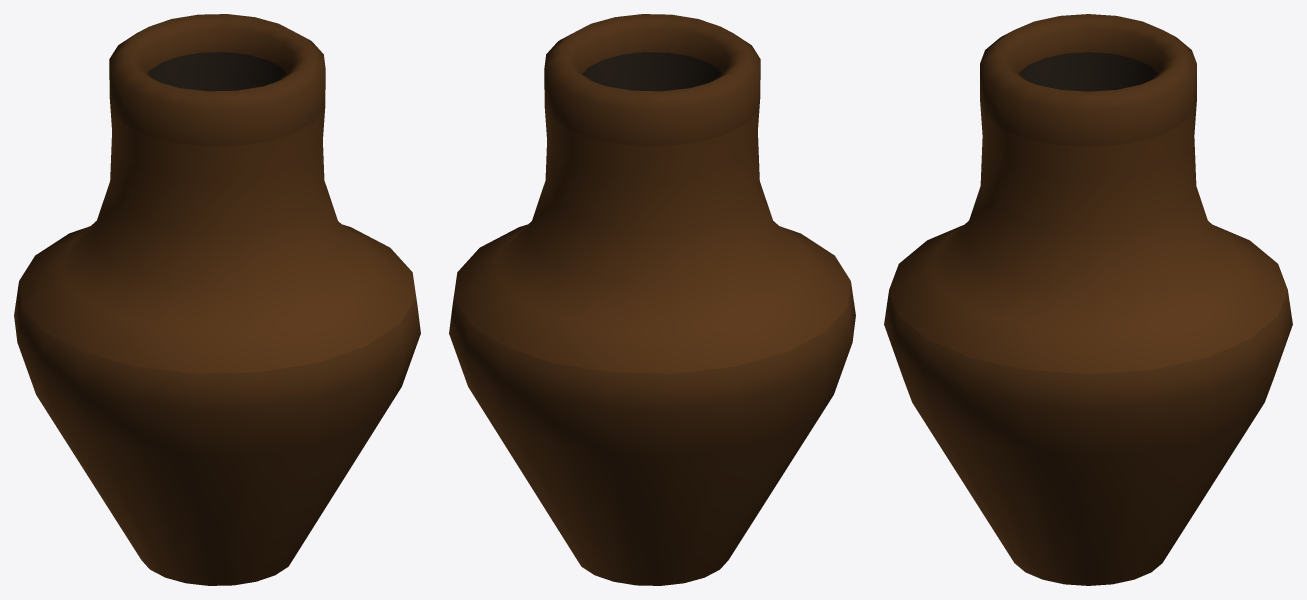
File: mk_vase_4.glb
3 views of the same model, side by side, from view 1: azimuth 30°, elevation 25°; view 2: azimuth 150°, elevation 25°; view 3: azimuth 270°, elevation 25° (orthographic).
Visible parts, largest first — view 1: Vase_4; view 2: Vase_4; view 3: Vase_4.
Part boxes in pixels (left/top/right/bottom): Vase_4: left=14, top=14, right=420, bottom=585; Vase_4: left=449, top=14, right=855, bottom=585; Vase_4: left=884, top=14, right=1292, bottom=585.
Size of the model in its own units: 0.3596 by 0.4855 by 0.3596.
